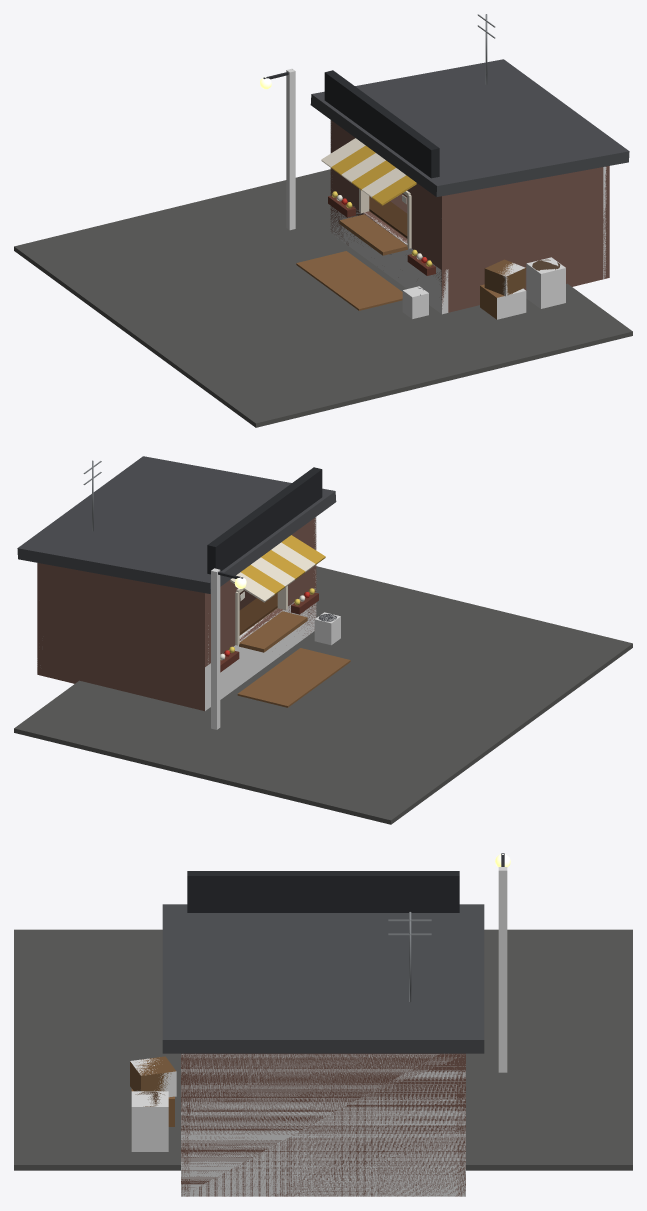
File: booth-10.glb
3 renders of one model, top to bottom at view 1: azimuth 30°, elevation 25°; view 2: azimuth 150°, elevation 25°; view 3: azimuth 270°, elevation 25°, orthographic. The views are drawn at different scales.
Visible parts, largest first — view 1: 27_#5a5a58_noshadow, 28_#4c4e52, 17_#7a5a50, 29_#2a2c30_noshadow, 04_#8a6440_noshadow, solid.008, 18_#7a5a50_r320, 00_#e8e0d0_noshadow_r320, 09_#8a6440_r320, 01_#c9a13a_noshadow_r320, solid.003, solid.004 (+5 smaller); view 2: 27_#5a5a58_noshadow, 28_#4c4e52, 17_#7a5a50, 29_#2a2c30_noshadow, 04_#8a6440_noshadow, solid.008, 00_#e8e0d0_noshadow_r320, 18_#7a5a50_r320, solid.004, 01_#c9a13a_noshadow_r320, 09_#8a6440_r320, 22_#5a3e26_noshadow (+2 smaller); view 3: 27_#5a5a58_noshadow, 28_#4c4e52, solid.005, 17_#7a5a50, 29_#2a2c30_noshadow, solid.003, solid.004, 10_#7a5a3a_r110, solid.002.
Part boxes in pixels (left/top/right/bottom): 27_#5a5a58_noshadow: left=14, top=169, right=632, bottom=427; 28_#4c4e52: left=310, top=59, right=629, bottom=197; 17_#7a5a50: left=330, top=120, right=609, bottom=312; 29_#2a2c30_noshadow: left=324, top=70, right=439, bottom=178; 04_#8a6440_noshadow: left=296, top=251, right=402, bottom=310; solid.008: left=330, top=206, right=448, bottom=314; 18_#7a5a50_r320: left=330, top=137, right=442, bottom=269; 00_#e8e0d0_noshadow_r320: left=321, top=138, right=411, bottom=248; 09_#8a6440_r320: left=339, top=214, right=512, bottom=319; 01_#c9a13a_noshadow_r320: left=331, top=145, right=416, bottom=205; solid.003: left=526, top=257, right=565, bottom=308; solid.004: left=286, top=68, right=295, bottom=230; 27_#5a5a58_noshadow: left=14, top=566, right=632, bottom=824; 28_#4c4e52: left=17, top=456, right=336, bottom=593; 17_#7a5a50: left=37, top=518, right=316, bottom=711; 29_#2a2c30_noshadow: left=207, top=467, right=322, bottom=574; 04_#8a6440_noshadow: left=237, top=648, right=350, bottom=707; solid.008: left=205, top=588, right=316, bottom=710; 00_#e8e0d0_noshadow_r320: left=230, top=542, right=315, bottom=645; 18_#7a5a50_r320: left=198, top=534, right=316, bottom=666; solid.004: left=211, top=568, right=220, bottom=729; 01_#c9a13a_noshadow_r320: left=241, top=535, right=325, bottom=594; 09_#8a6440_r320: left=239, top=611, right=307, bottom=652; 22_#5a3e26_noshadow: left=239, top=593, right=277, bottom=634; 27_#5a5a58_noshadow: left=14, top=929, right=632, bottom=1170; 28_#4c4e52: left=162, top=904, right=484, bottom=1053; solid.005: left=181, top=1054, right=465, bottom=1196; 17_#7a5a50: left=181, top=1053, right=465, bottom=1196; 29_#2a2c30_noshadow: left=187, top=871, right=459, bottom=912; solid.003: left=131, top=1091, right=168, bottom=1151; solid.004: left=498, top=867, right=507, bottom=1072; 10_#7a5a3a_r110: left=130, top=1056, right=175, bottom=1091; solid.002: left=130, top=1058, right=176, bottom=1097.
Bounding box in the file's own units: 10.3 × 4.7 × 10.
